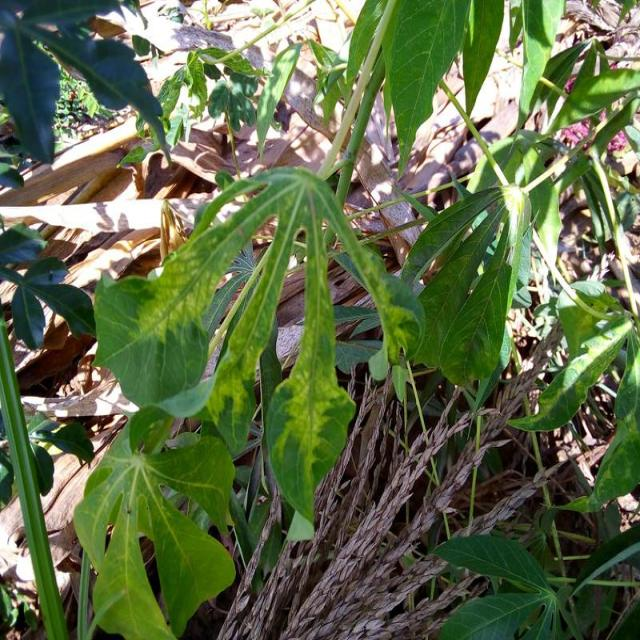cassava leaf: (94, 162, 427, 532), (72, 406, 238, 638), (397, 182, 532, 388)
